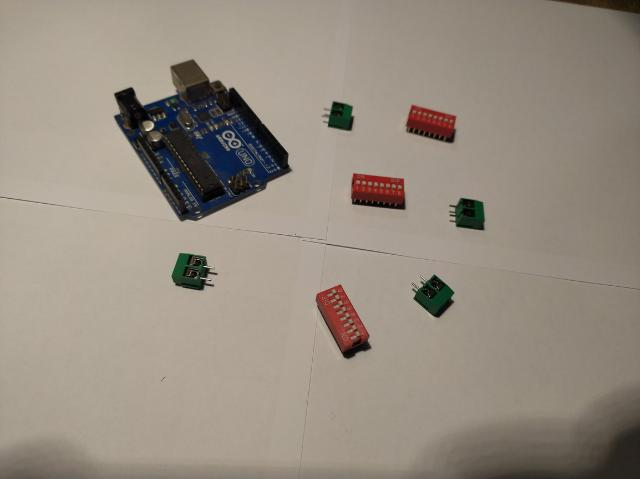arduino: (115, 58, 289, 222)
dip_switch: (316, 285, 369, 355), (350, 172, 404, 209), (406, 104, 456, 142)
terminal_block: (411, 274, 453, 314), (172, 253, 215, 289), (450, 198, 484, 228), (322, 101, 354, 131)
